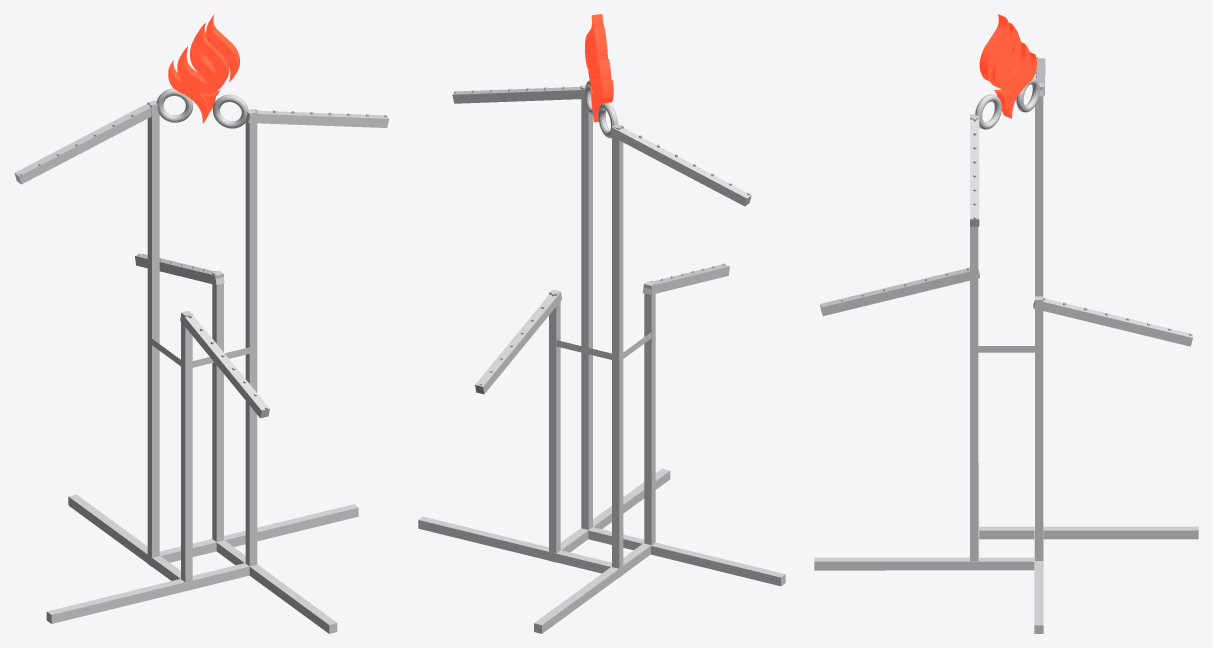
File: stand.glb
3 views of the same model, side by side, from view 1: azimuth 30°, elevation 25°; view 2: azimuth 150°, elevation 25°; view 3: azimuth 270°, elevation 25° (orthographic). The views are drawn at different scales.
Visible parts, largest first — view 1: Cube.001, Cube.003, Cube.004, Curve, Cube, Cube.006, Cube.007, Cube.009, Cube.005, Cube.002, Cube.008, Torus.001 (+2 smaller); view 2: Cube.001, Cube.003, Cube.004, Cube, Cube.007, Cube.006, Cube.009, Curve, Cube.002, Cube.005, Cube.008, Cube.010; view 3: Cube.004, Cube.001, Curve, Cube.005, Cube.002, Cube.008, Cube.003, Cube.007, Torus.001.
Boxes of the visible parts, x1,y1,x2,y2 form: Cube.001: (245, 109, 389, 566); Cube.003: (147, 100, 159, 566); Cube.004: (135, 254, 224, 541); Curve: (168, 14, 239, 123); Cube: (181, 311, 192, 591); Cube.006: (46, 563, 249, 623); Cube.007: (159, 504, 358, 562); Cube.009: (14, 100, 153, 184); Cube.005: (216, 540, 337, 633); Cube.002: (68, 494, 180, 580); Cube.008: (180, 311, 269, 418); Torus.001: (212, 94, 248, 128); Cube.001: (452, 85, 592, 529); Cube.003: (612, 124, 623, 577); Cube.004: (475, 289, 561, 562); Cube: (644, 281, 655, 545); Cube.007: (418, 516, 611, 573); Cube.006: (585, 527, 785, 586); Cube.009: (610, 127, 751, 206); Curve: (585, 14, 613, 122); Cube.002: (534, 543, 651, 633); Cube.005: (560, 468, 670, 552); Cube.008: (642, 264, 729, 294); Cube.010: (556, 332, 651, 359); Cube.004: (1033, 296, 1192, 560); Cube.001: (970, 114, 979, 561); Curve: (979, 14, 1036, 118); Cube.005: (814, 557, 1034, 570); Cube.002: (978, 526, 1198, 539); Cube.008: (820, 268, 979, 316); Cube.003: (1035, 83, 1043, 296); Cube.007: (1034, 530, 1043, 633); Torus.001: (975, 94, 1001, 129).
Size of the model in its own units: 1.39 by 2.16 by 1.39.
